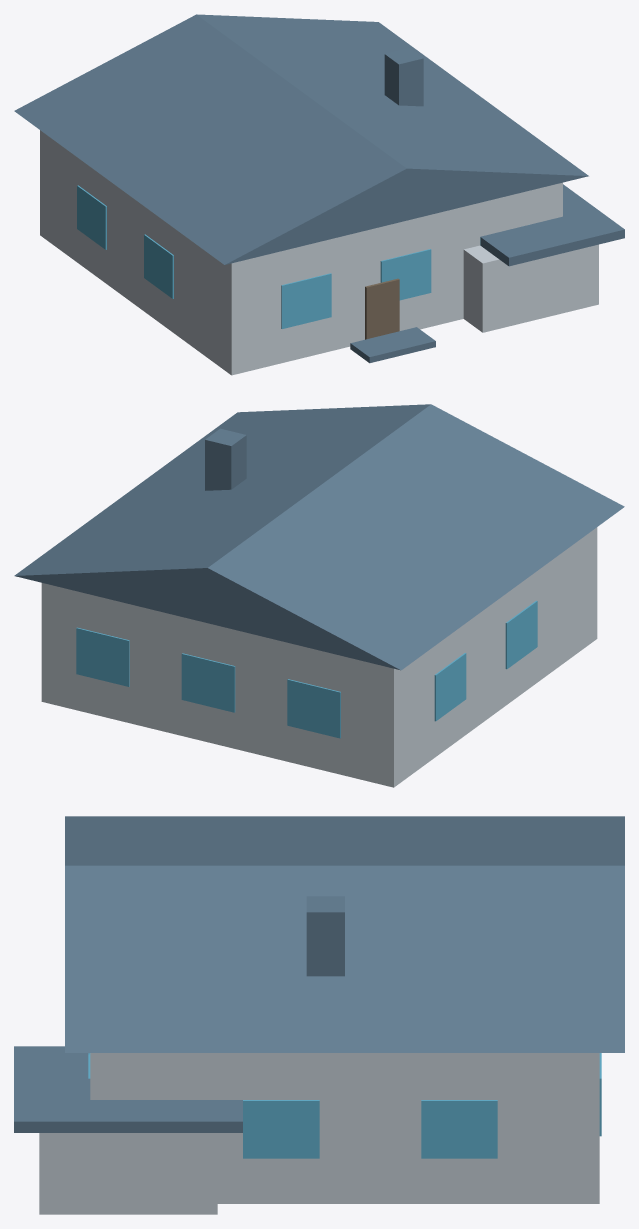
The model's file is house.gltf.
3 views of the same model, one above another, from view 1: azimuth 30°, elevation 25°; view 2: azimuth 150°, elevation 25°; view 3: azimuth 270°, elevation 25° (orthographic). The views are drawn at different scales.
Size of the model in its own units: 23 by 11 by 24.
